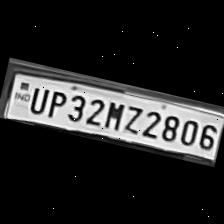0: (176, 113, 202, 147)
2: (82, 93, 108, 127), (138, 104, 162, 138)
3: (63, 88, 88, 122)
6: (194, 117, 220, 151)
8: (157, 109, 182, 143)
M: (100, 96, 127, 131)
P: (44, 85, 68, 119)
U: (25, 81, 50, 115)
Z: (119, 100, 145, 135)
